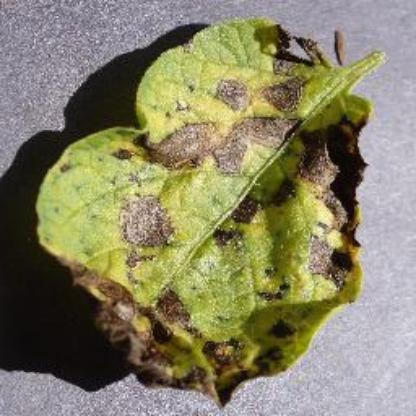Early-Blight: (31, 4, 414, 410)
